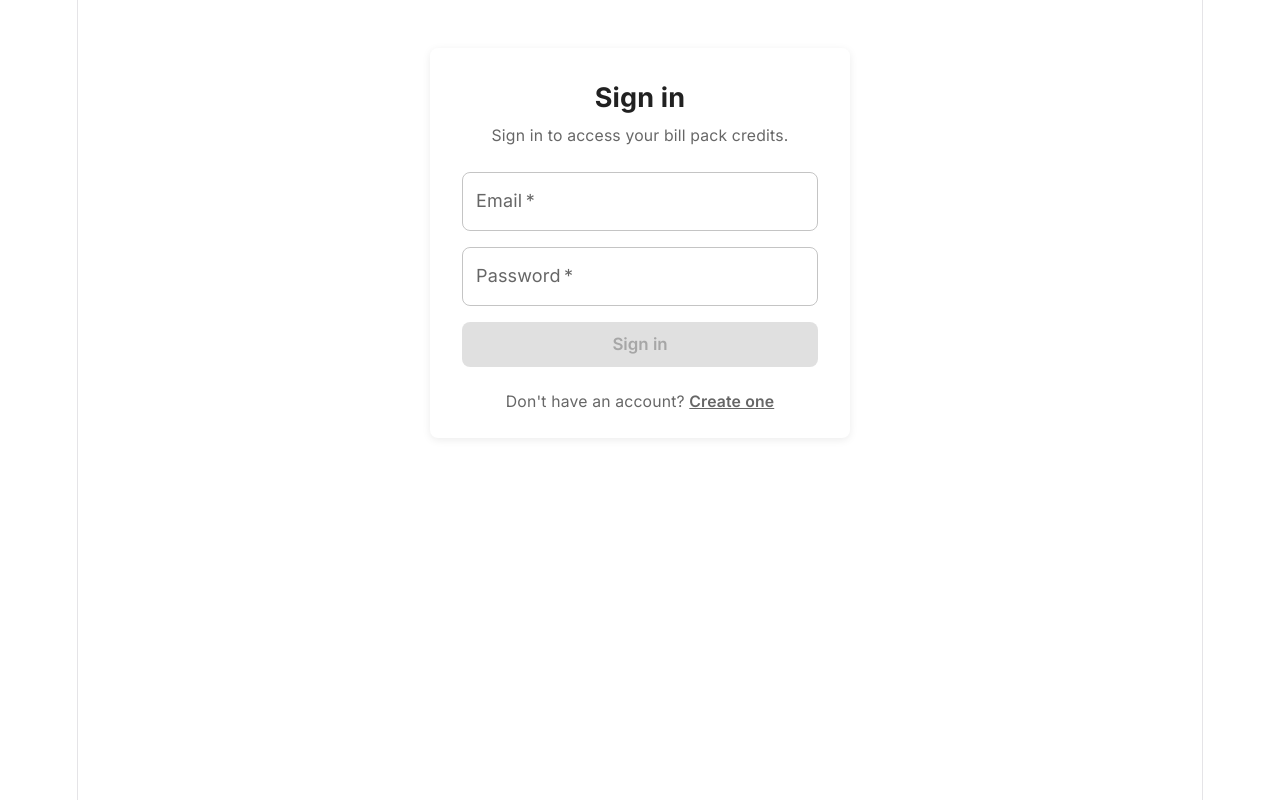
LoginPage › enables submit button when both fields are filled
In the field labelled "Email *": (640, 201) [462,172,818,231], type "user@example.com"
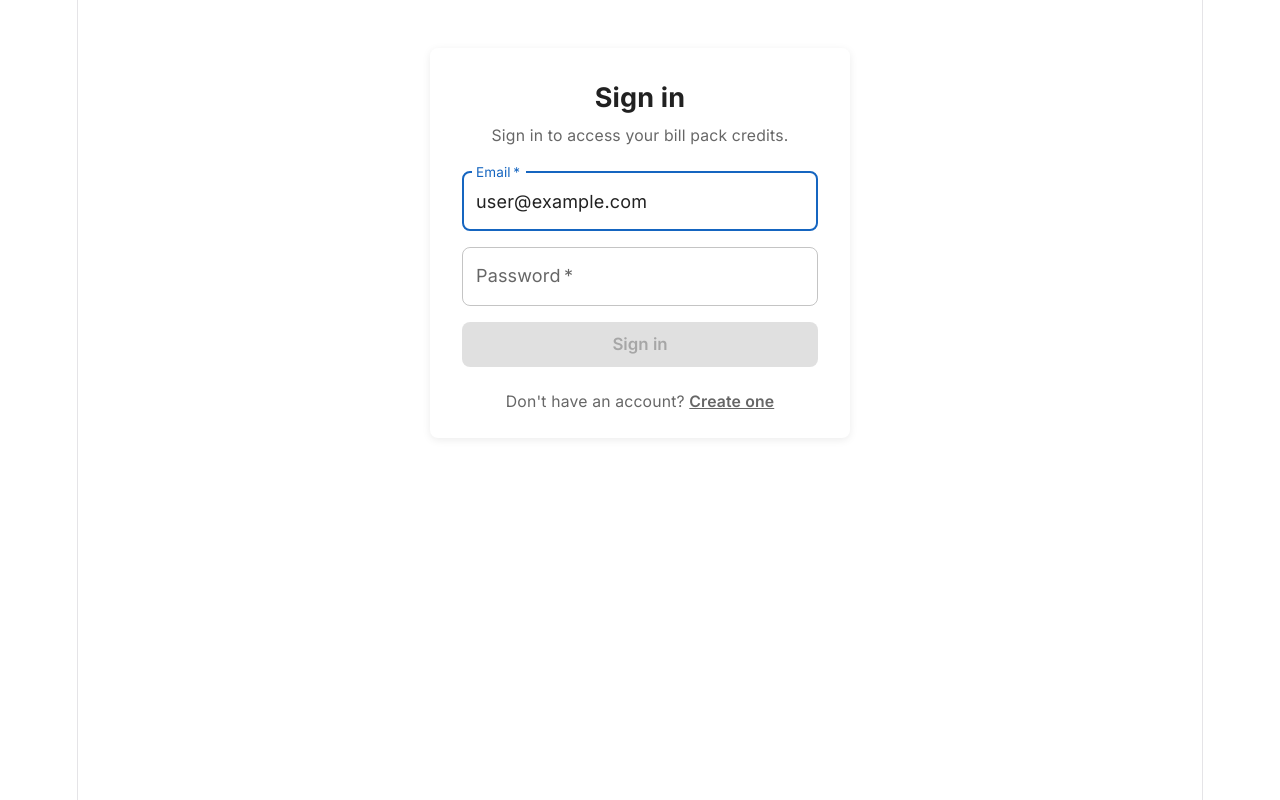
In the password field labelled "Password *": (640, 276) [462,247,818,306], type "password123"
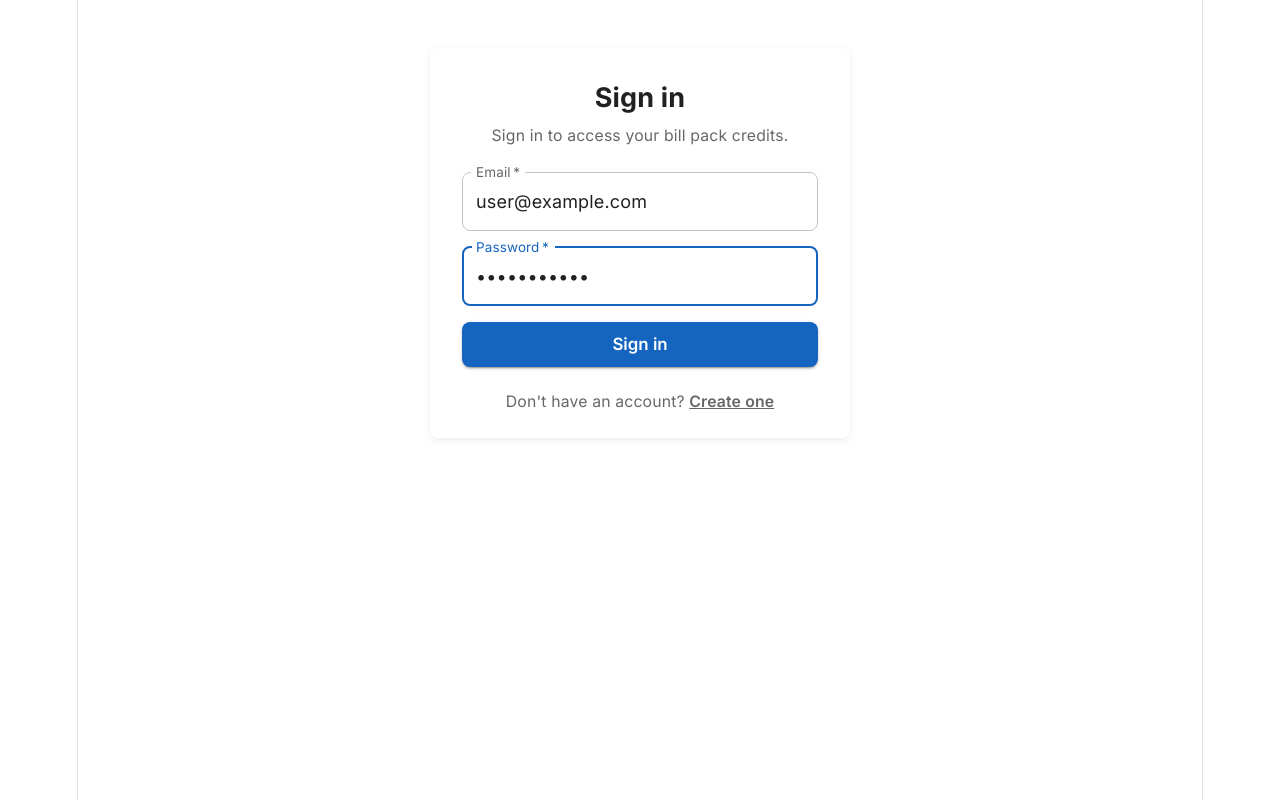
Expected: the button "Sign in" is enabled, [462,322,818,367]
